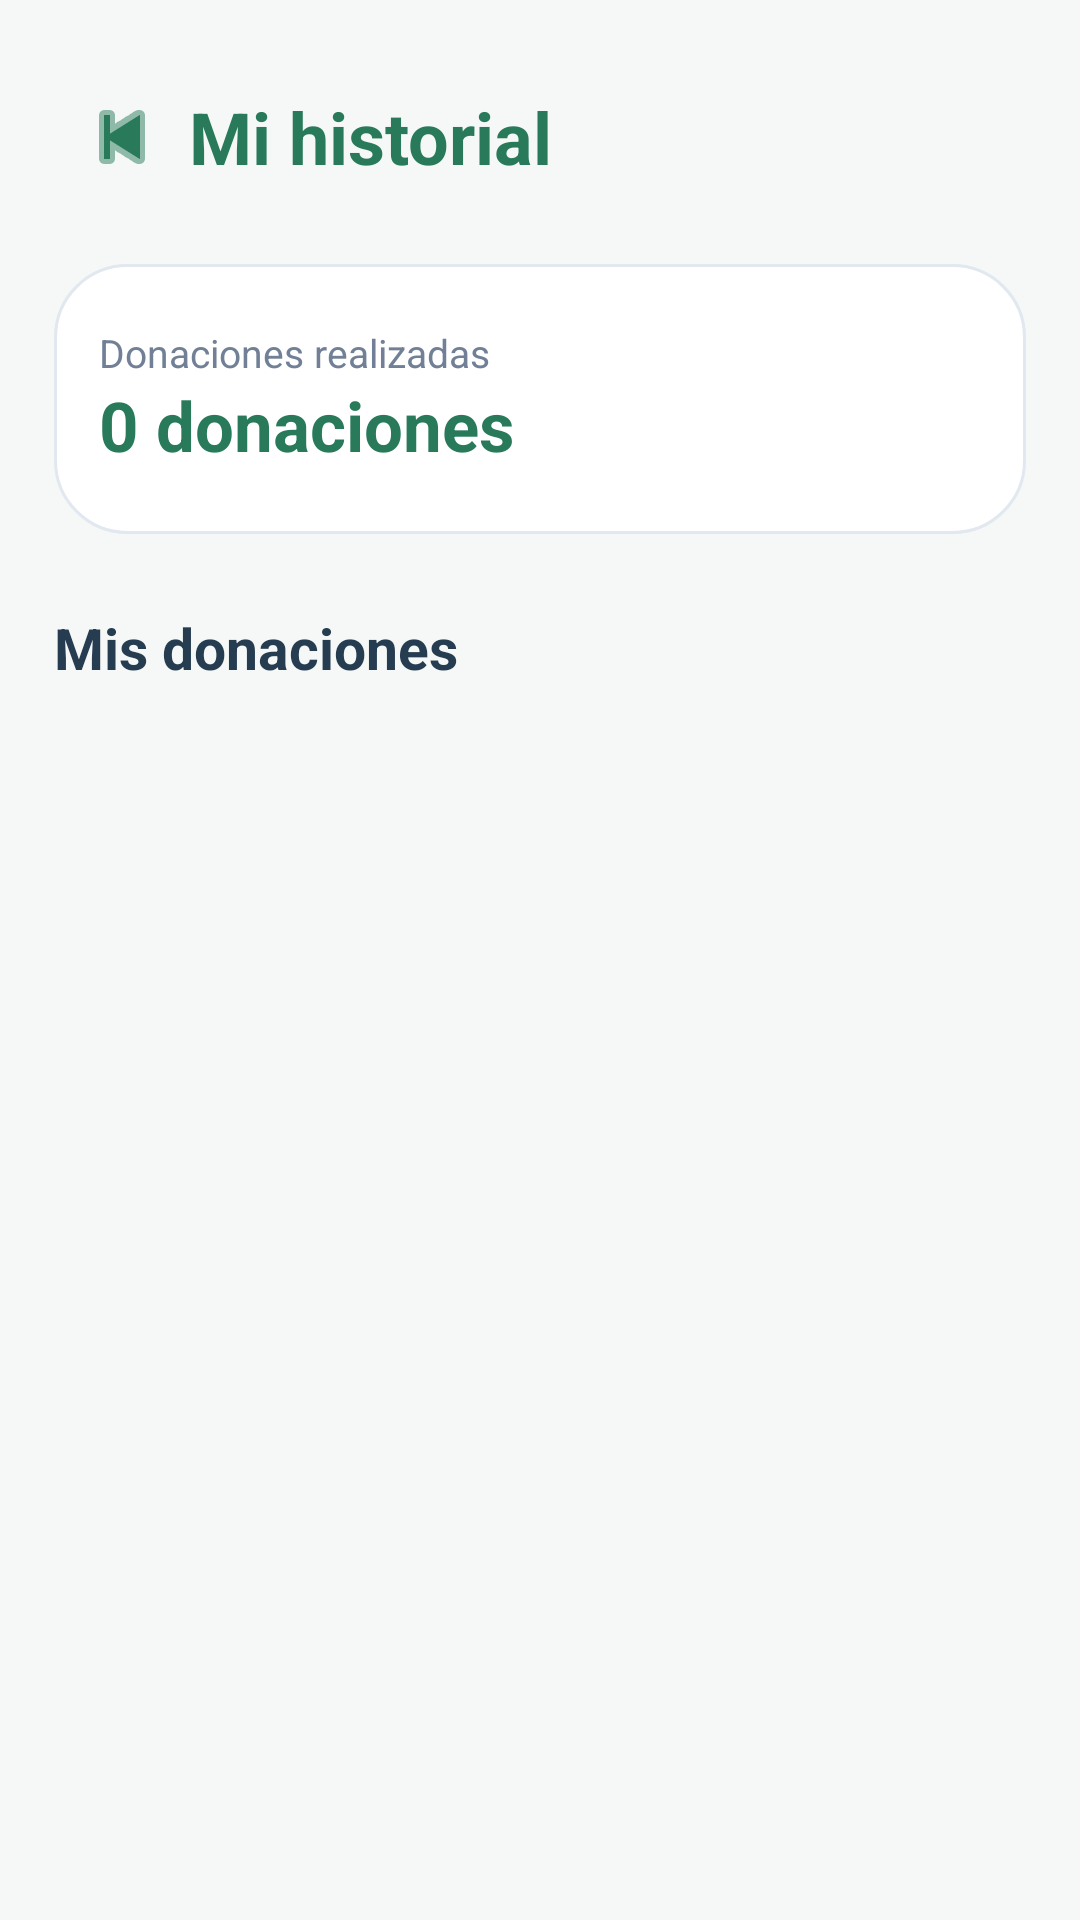

Icon bounding boxes for this 1080w x 1920h phone screenshot, format (x1, y1, x2, y2):
Volver: (99, 110, 145, 164)
